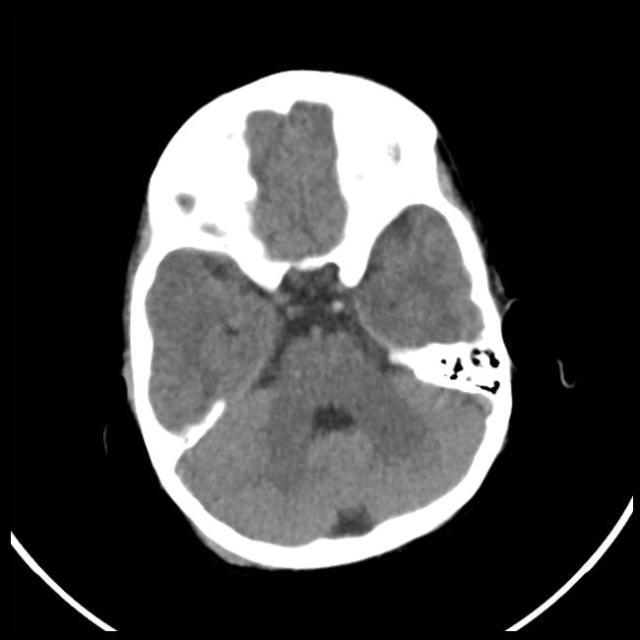lesion: (118, 66, 520, 572)
